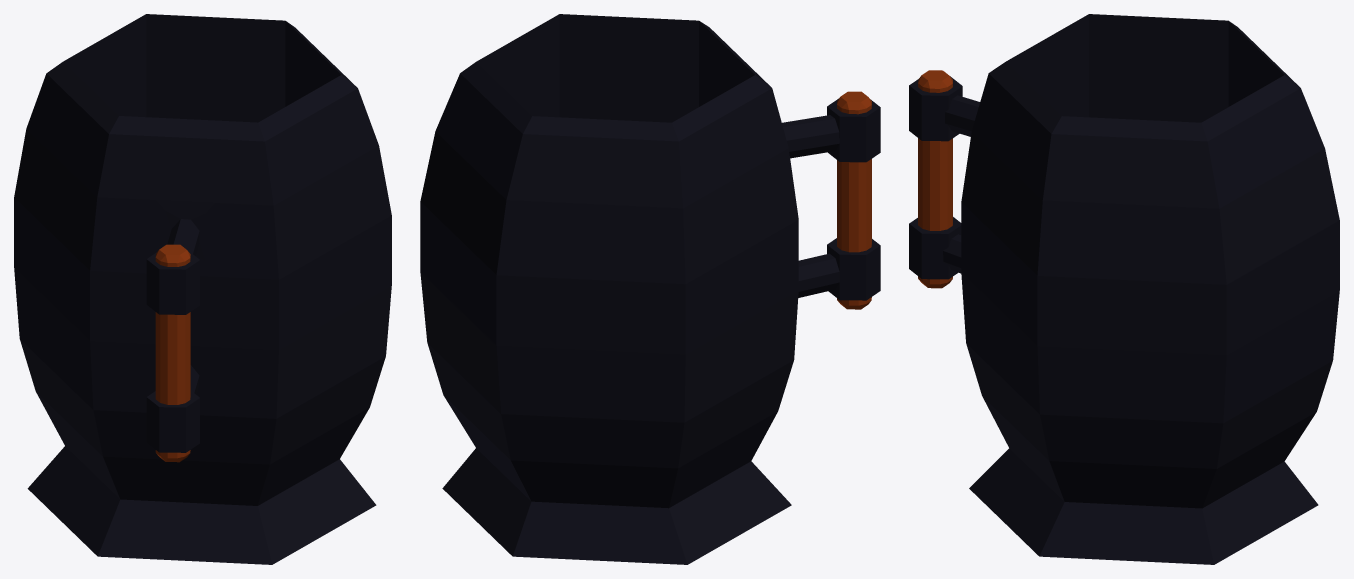
File: mug.fbx
3 views of the same model, side by side, from view 1: azimuth 30°, elevation 25°; view 2: azimuth 150°, elevation 25°; view 3: azimuth 270°, elevation 25° (orthographic).
Parts seen in each view (by area): view 1: Kufel; view 2: Kufel; view 3: Kufel.
Part boxes in pixels (<box>): Kufel: <box>14,14,391,564</box>; Kufel: <box>420,14,880,564</box>; Kufel: <box>909,14,1339,564</box>.
Size of the model in its own units: 12.21 by 16.22 by 14.76.
